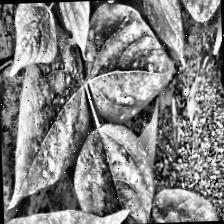Bean Rust: (9, 33, 85, 202), (80, 1, 174, 126), (72, 112, 157, 224)
